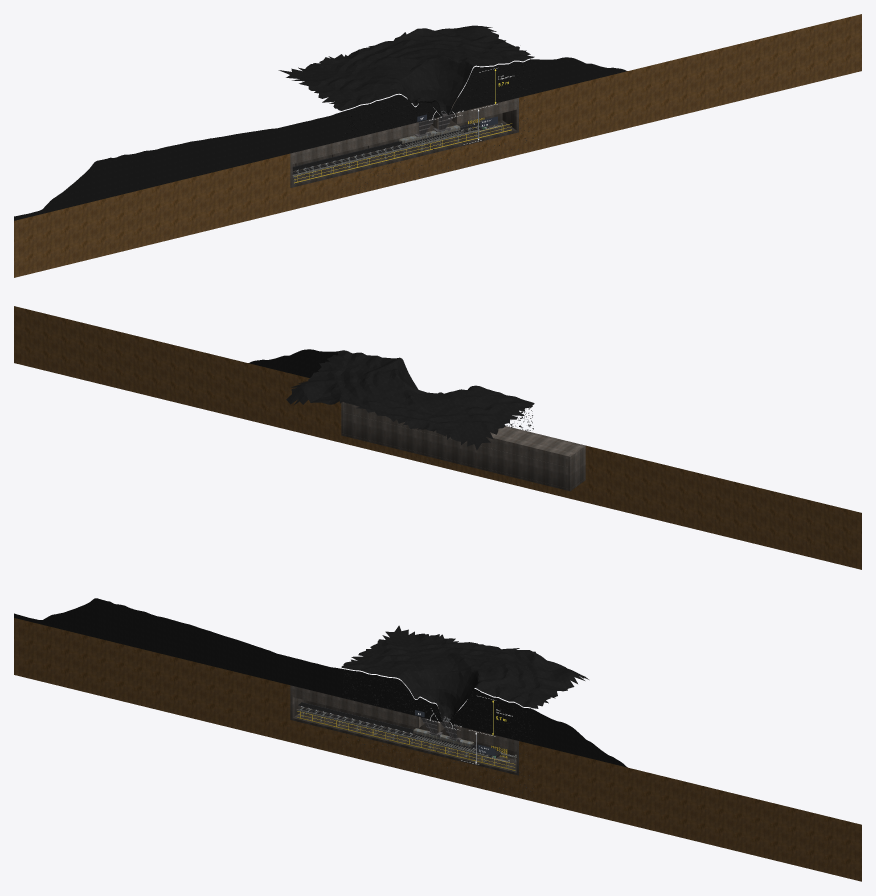
Rendered from section.glb.
The picture shows the model from 3 angles, top to bottom: view 1: azimuth 30°, elevation 25°; view 2: azimuth 150°, elevation 25°; view 3: azimuth 330°, elevation 25°; orthographic projection.
Parts seen in each view (by area): view 1: TampakSamping; view 2: TampakSamping; view 3: TampakSamping.
Part boxes in pixels (x1=…): TampakSamping: x1=14, y1=14, x2=861, y2=277; TampakSamping: x1=14, y1=306, x2=861, y2=569; TampakSamping: x1=14, y1=598, x2=861, y2=881.
Bounding box in the file's own units: 140 × 15.88 × 17.84.
Materials: 9 (9 with a texture image).
